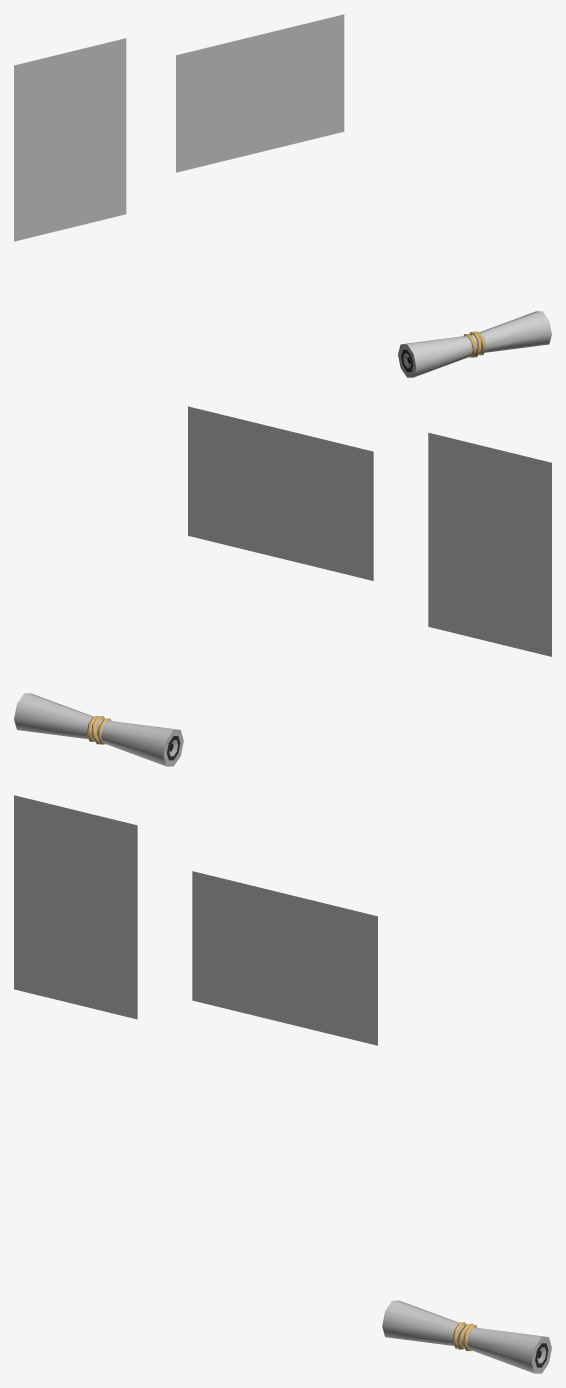
File: Posters.fbx
3 views of the same model, one above another, from view 1: azimuth 30°, elevation 25°; view 2: azimuth 150°, elevation 25°; view 3: azimuth 330°, elevation 25° (orthographic). The views are drawn at different scales.
Visible parts, largest first — view 1: PosterVertical, PosterHorizontal, PosterRoll; view 2: PosterHorizontal, PosterVertical, PosterRoll; view 3: PosterHorizontal, PosterVertical, PosterRoll.
Boxes of the visible parts, <box> form: PosterVertical: <box>14,38,126,241</box>; PosterHorizontal: <box>176,14,344,172</box>; PosterRoll: <box>398,311,551,377</box>; PosterHorizontal: <box>188,406,373,580</box>; PosterVertical: <box>428,432,551,656</box>; PosterRoll: <box>14,693,183,766</box>; PosterHorizontal: <box>192,871,377,1045</box>; PosterVertical: <box>14,795,137,1019</box>; PosterRoll: <box>382,1300,551,1373</box>.
Size of the model in its own units: 2.65 by 1.93 by 0.3115.
